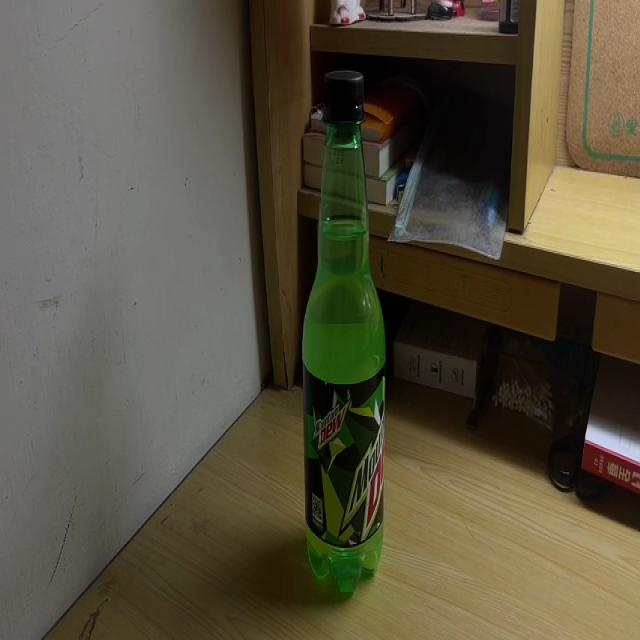Mountain-Dew: (302, 69, 387, 598)
